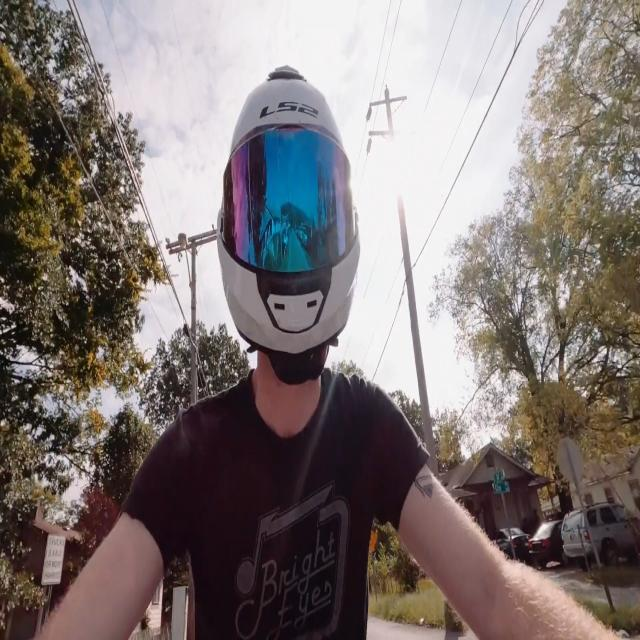Helmet_Wearer: (198, 60, 368, 383)
Person: (38, 70, 494, 640)
